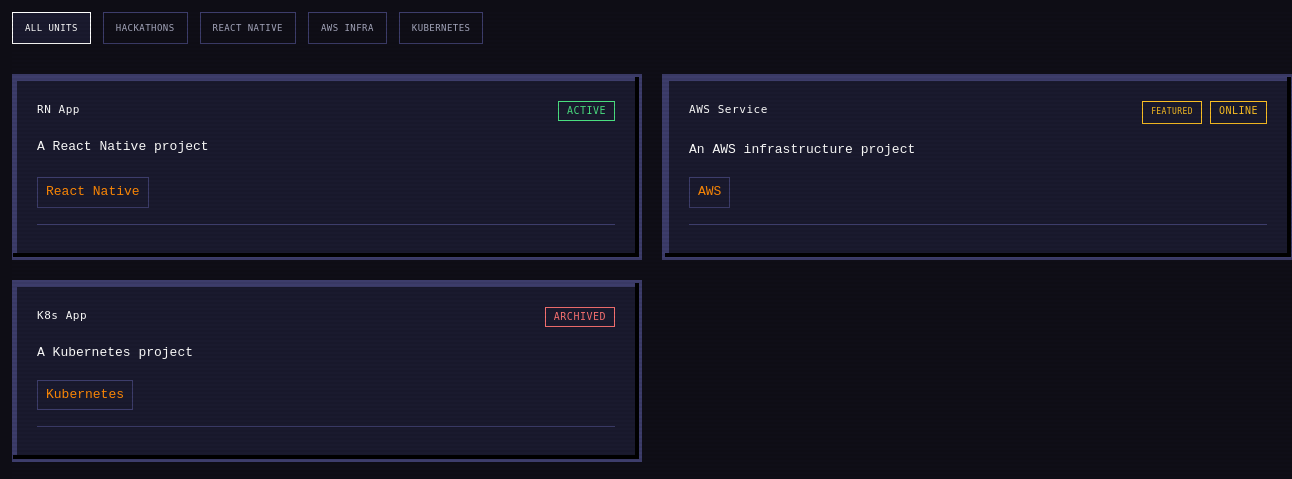
Test case: ProjectGrid › filters to KUBERNETES projects when filter clicked
What coordinates should you click on to do the following:
click the button "KUBERNETES"
I would click on:
 (441, 28)
Its box is [399, 12, 484, 44].
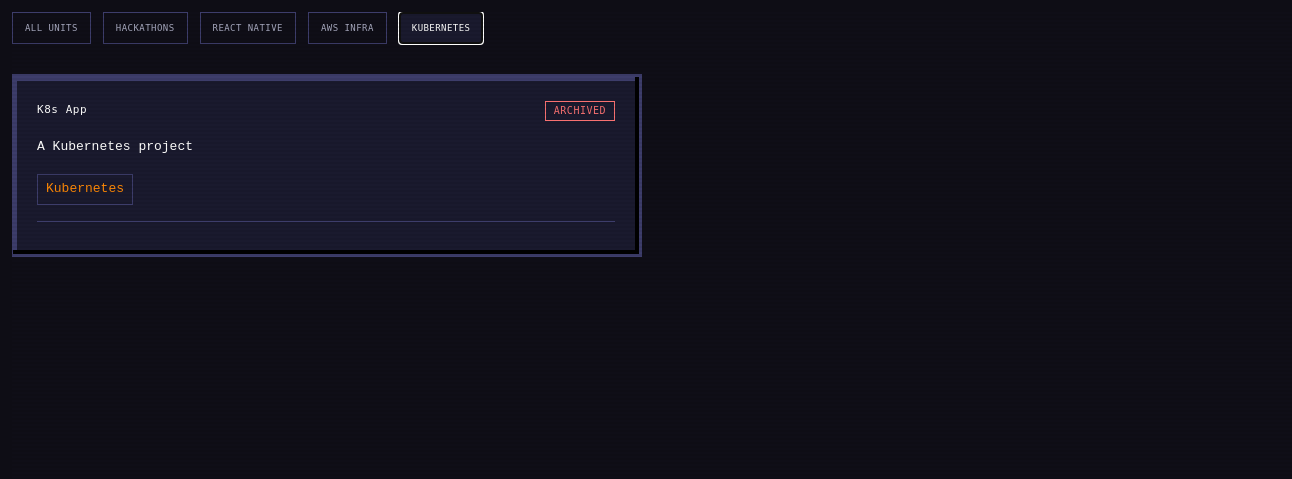
Expected: the heading "K8s App" is shown, [37, 103, 87, 116]
Expected: the heading "RN App" is gone
Expected: the heading "AWS Service" is gone
